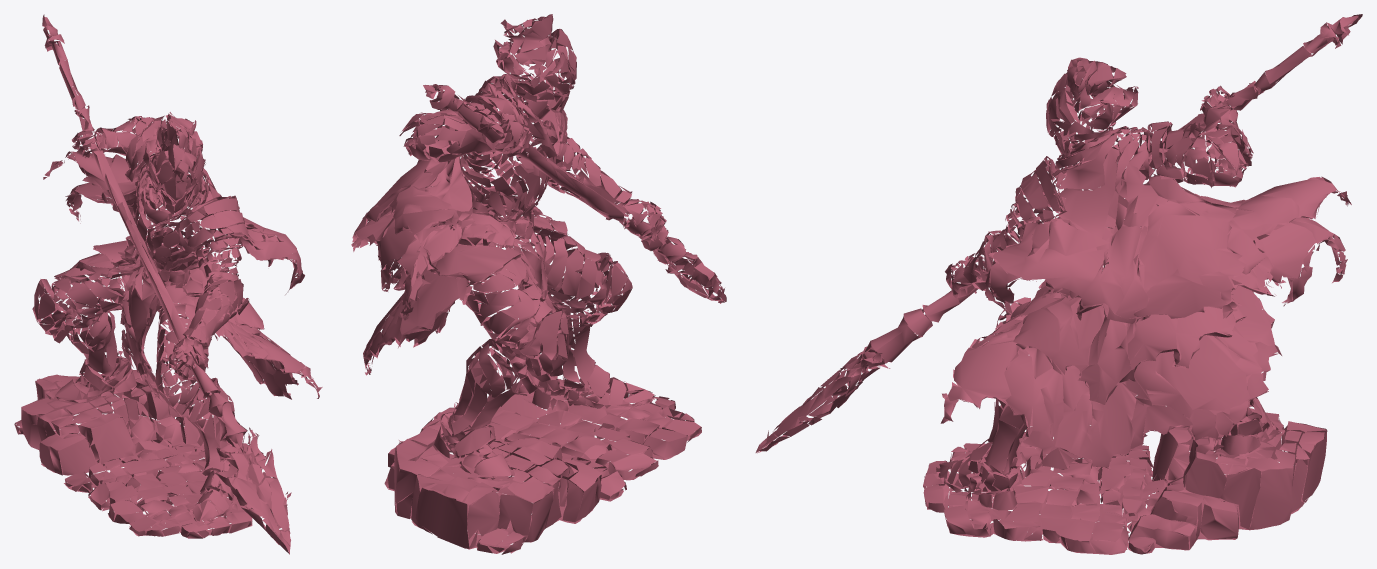
Rendered from ember-cohort.glb.
The picture shows the model from 3 angles, left to right: view 1: azimuth 30°, elevation 25°; view 2: azimuth 150°, elevation 25°; view 3: azimuth 270°, elevation 25°; orthographic projection. The views are drawn at different scales.
Parts seen in each view (by area): view 1: model; view 2: model; view 3: model.
Part boxes in pixels (x1,y1,x2,y2): model: [14, 14, 322, 554]; model: [351, 14, 726, 554]; model: [755, 14, 1362, 554].
Size of the model in its own units: 0.8359 by 1.66 by 1.9.
